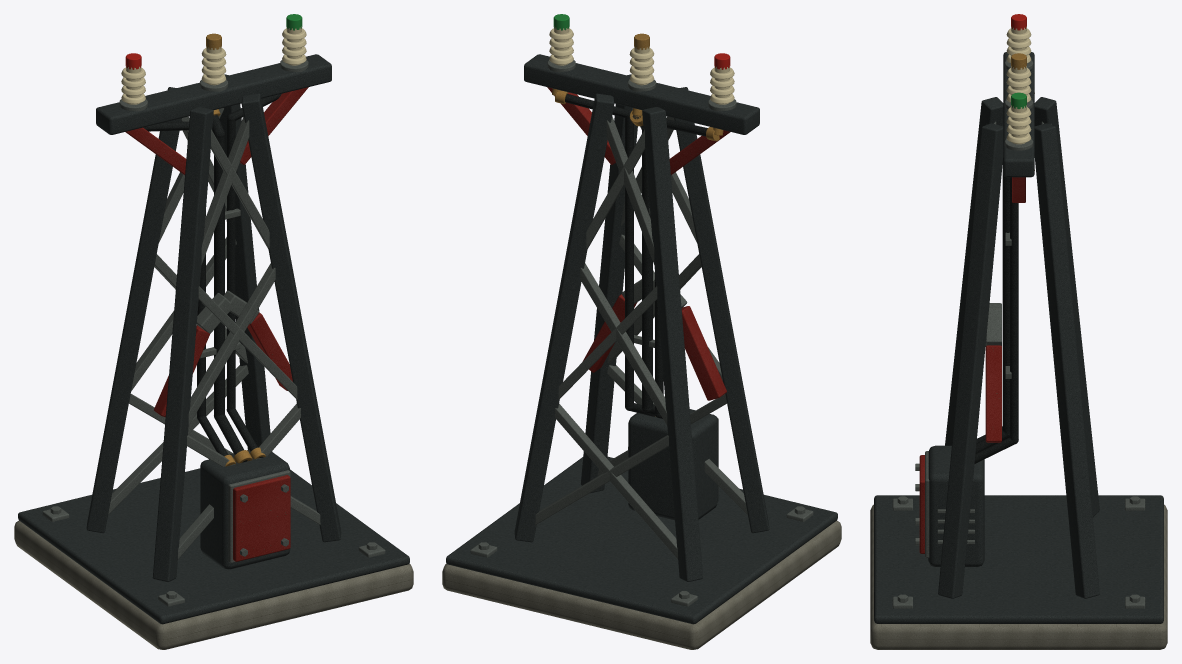
File: power-2.glb
3 views of the same model, side by side, from view 1: azimuth 30°, elevation 25°; view 2: azimuth 150°, elevation 25°; view 3: azimuth 270°, elevation 25° (orthographic).
Parts seen in each view (by area): view 1: Cast foundation edge, Tapered pylon corner chord, Ferrocrete ground-contact plinth, Tapered pylon corner chord.001, Tapered pylon corner chord.002, Load-bearing power and circuit crossarm, Tapered pylon corner chord.003, Red armored service cover, Armored electrical cabinet, X-braced load bay.002, Copper bus armored central riser segment 1, Cabinet to crossarm armored riser segment 1.001 (+16 smaller); view 2: Cast foundation edge, Tapered pylon corner chord.002, Ferrocrete ground-contact plinth, Tapered pylon corner chord.003, Tapered pylon corner chord, Load-bearing power and circuit crossarm, Armored electrical cabinet, Tapered pylon corner chord.001, X-braced load bay.006, X-braced load bay.008, Gothic load path, Cabinet to crossarm armored riser segment 1.001 (+13 smaller); view 3: Cast foundation edge, Tapered pylon corner chord.001, Tapered pylon corner chord.003, Ferrocrete ground-contact plinth, Armored electrical cabinet, Tapered pylon corner chord.002, Tapered pylon corner chord, Cabinet to crossarm armored riser segment 1.001, Copper bus armored central riser segment 1, Load-bearing power and circuit crossarm, Gothic load path.001, Red armored service cover (+2 smaller).
Part boxes in pixels (bbox=[...]): Cast foundation edge: bbox=[18, 468, 409, 624]; Tapered pylon corner chord: bbox=[152, 107, 213, 581]; Ferrocrete ground-contact plinth: bbox=[14, 520, 413, 649]; Tapered pylon corner chord.001: bbox=[241, 93, 341, 542]; Tapered pylon corner chord.002: bbox=[86, 87, 181, 533]; Load-bearing power and circuit crossarm: bbox=[96, 54, 331, 134]; Tapered pylon corner chord.003: bbox=[219, 74, 272, 451]; Red armored service cover: bbox=[233, 475, 290, 561]; Armored electrical cabinet: bbox=[200, 449, 290, 569]; X-braced load bay.002: bbox=[188, 263, 275, 425]; Copper bus armored central riser segment 1: bbox=[214, 135, 224, 416]; Cabinet to crossarm armored riser segment 1.001: bbox=[227, 120, 235, 410]; Cast foundation edge: bbox=[446, 456, 837, 624]; Tapered pylon corner chord.002: bbox=[642, 107, 703, 581]; Ferrocrete ground-contact plinth: bbox=[442, 520, 841, 649]; Tapered pylon corner chord.003: bbox=[514, 93, 614, 542]; Tapered pylon corner chord: bbox=[674, 87, 769, 533]; Load-bearing power and circuit crossarm: bbox=[524, 54, 759, 134]; Armored electrical cabinet: bbox=[628, 409, 718, 520]; Tapered pylon corner chord.001: bbox=[580, 74, 637, 493]; X-braced load bay.006: bbox=[555, 403, 677, 558]; X-braced load bay.008: bbox=[580, 263, 667, 425]; Gothic load path: bbox=[681, 306, 726, 400]; Cabinet to crossarm armored riser segment 1.001: bbox=[625, 117, 633, 407]; Cast foundation edge: bbox=[874, 495, 1163, 623]; Tapered pylon corner chord.001: bbox=[938, 123, 1003, 598]; Tapered pylon corner chord.003: bbox=[1034, 123, 1099, 598]; Ferrocrete ground-contact plinth: bbox=[870, 504, 1167, 649]; Armored electrical cabinet: bbox=[928, 445, 984, 566]; Tapered pylon corner chord.002: bbox=[1034, 97, 1099, 517]; Tapered pylon corner chord: bbox=[945, 97, 1003, 445]; Cabinet to crossarm armored riser segment 1.001: bbox=[1010, 177, 1018, 440]; Copper bus armored central riser segment 1: bbox=[1002, 158, 1009, 433]; Load-bearing power and circuit crossarm: bbox=[1003, 52, 1034, 177]; Gothic load path.001: bbox=[985, 345, 1001, 442]; Red armored service cover: bbox=[919, 455, 924, 553].
Size of the model in its own units: 1.9 by 3.76 by 1.9.
Materials: 10 (7 with a texture image).
